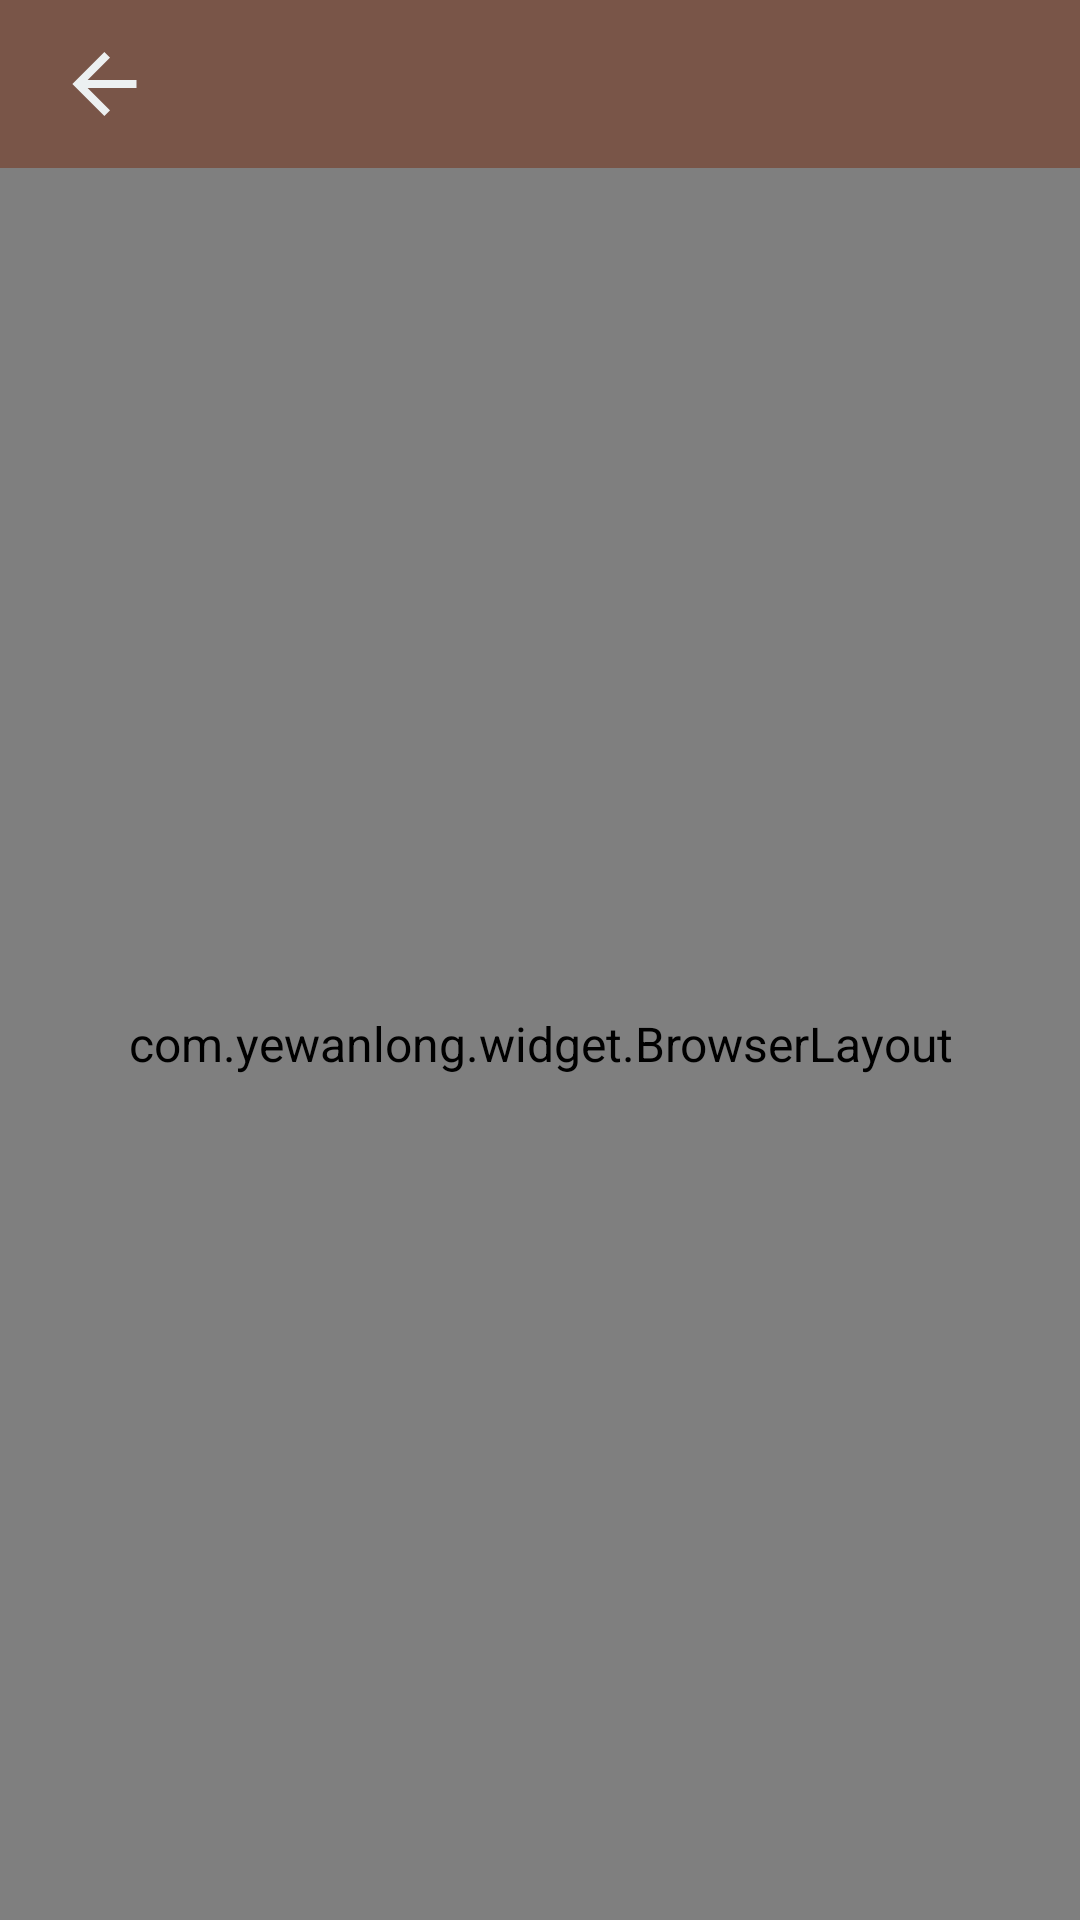

Screen size 1080 x 1920. Icon name, then its center in pixels as (x,y):
back: (104,84)
